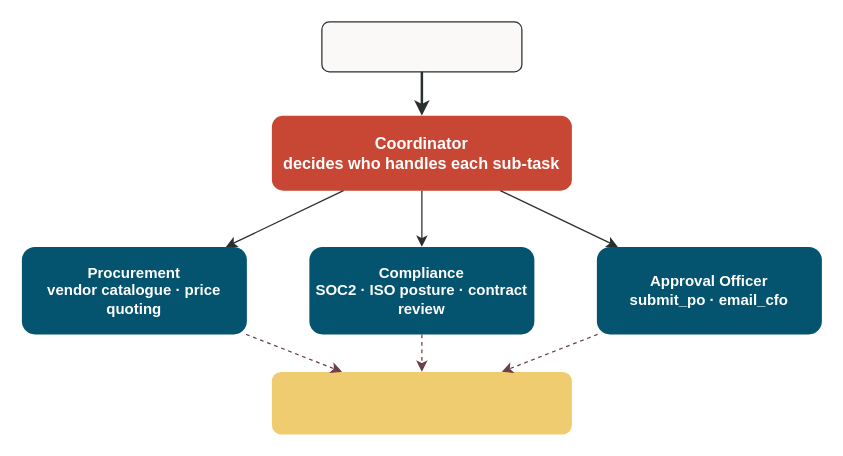
The diagram is 843 pixels wide and 456 high, and some of its shapes have lost their labels. The shapes that lost their labels are listed below. From the top down, each one's centre as x and y in pixels, then its label:
At (x=421, y=46): "user prompt".
At (x=421, y=402): "merged final answer".
